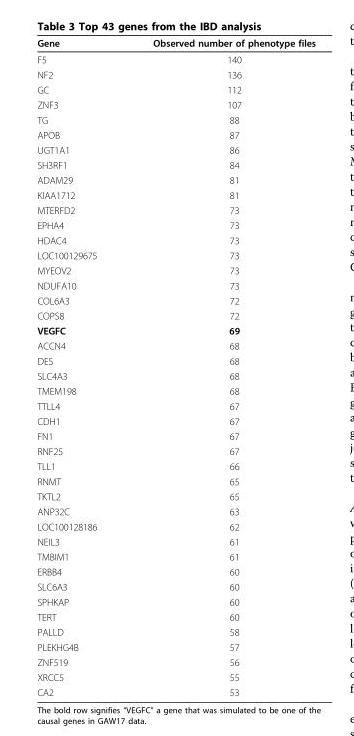table: (36, 36, 314, 697)
table column: (124, 36, 314, 697), (36, 36, 124, 697)
table column header: (36, 36, 314, 50)
table row: (36, 50, 314, 66), (36, 96, 314, 112), (36, 337, 314, 353), (36, 563, 314, 579), (36, 66, 314, 81), (36, 81, 314, 96), (36, 112, 314, 127), (36, 127, 314, 142), (36, 142, 314, 157), (36, 157, 314, 172), (36, 172, 314, 187), (36, 187, 314, 202), (36, 202, 314, 217), (36, 217, 314, 232), (36, 232, 314, 247), (36, 247, 314, 262), (36, 262, 314, 277), (36, 277, 314, 292), (36, 292, 314, 307), (36, 307, 314, 322), (36, 322, 314, 337), (36, 353, 314, 368), (36, 368, 314, 383), (36, 383, 314, 398), (36, 398, 314, 413), (36, 413, 314, 428), (36, 428, 314, 443), (36, 443, 314, 458), (36, 458, 314, 473), (36, 473, 314, 488), (36, 488, 314, 503), (36, 503, 314, 518), (36, 518, 314, 533), (36, 533, 314, 548), (36, 548, 314, 563), (36, 579, 314, 594), (36, 594, 314, 609), (36, 609, 314, 624), (36, 624, 314, 639), (36, 639, 314, 654), (36, 654, 314, 669), (36, 669, 314, 684), (36, 36, 314, 50), (36, 684, 314, 697)
